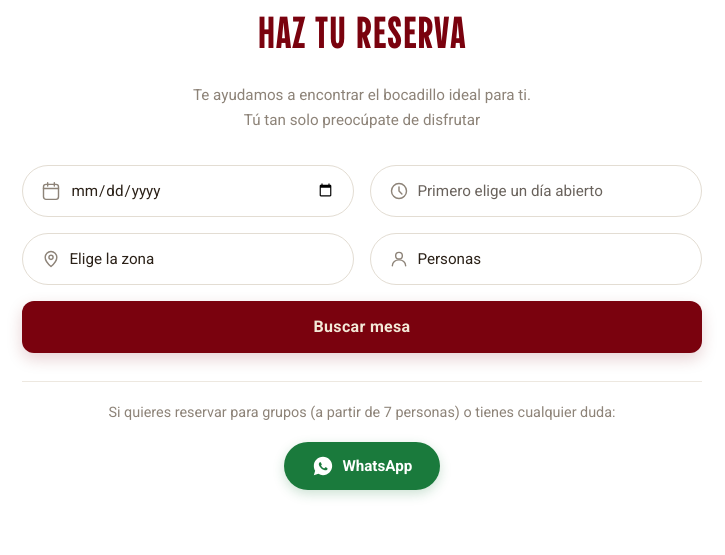
Scenario: Reservas page › changing a field after submit resets searching state
Step 1. Type "2030-06-05" into the date field with id "res-date" → (202, 191), box [69,181,335,201]
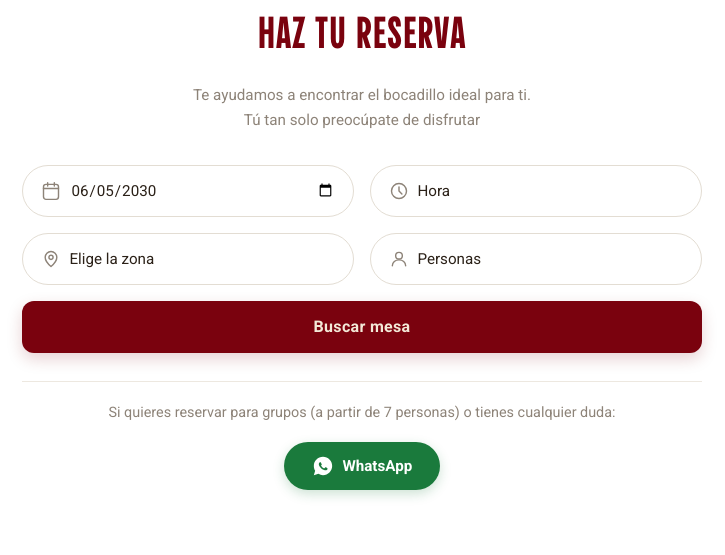
Check: the dropdown with id "res-time" is enabled
Step 2. Select "18:00" in the dropdown with id "res-time" → (550, 191), box [417,182,683,200]
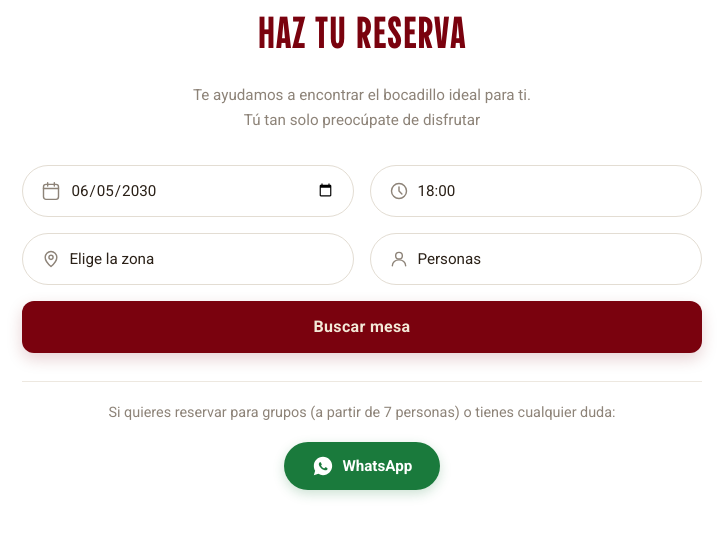
Step 3. Select "Terraza" in the dropdown with id "res-zone" → (202, 259), box [69,250,335,268]
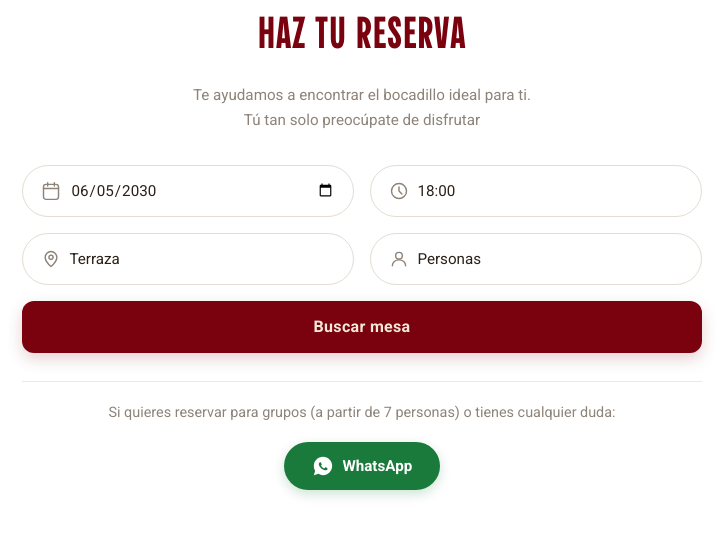
Step 4. Select "3 personas" in the dropdown with id "res-guests" → (550, 259), box [417,250,683,268]
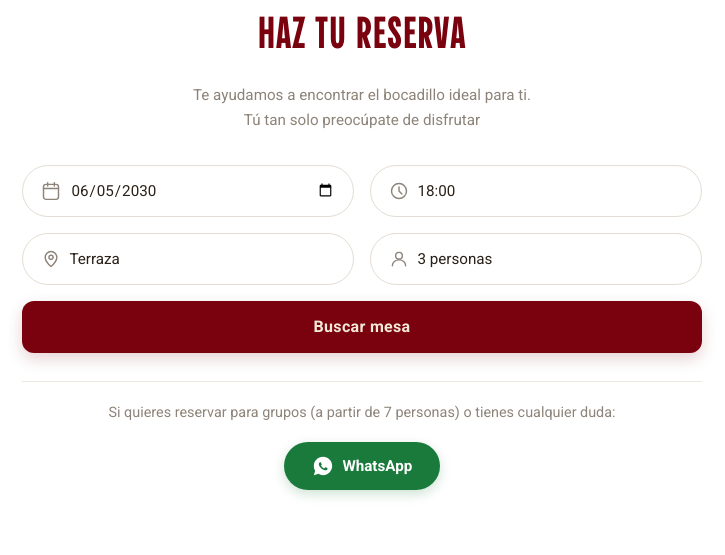
Step 5. Submit the form named "Formulario de reserva", box [22,165,702,353]
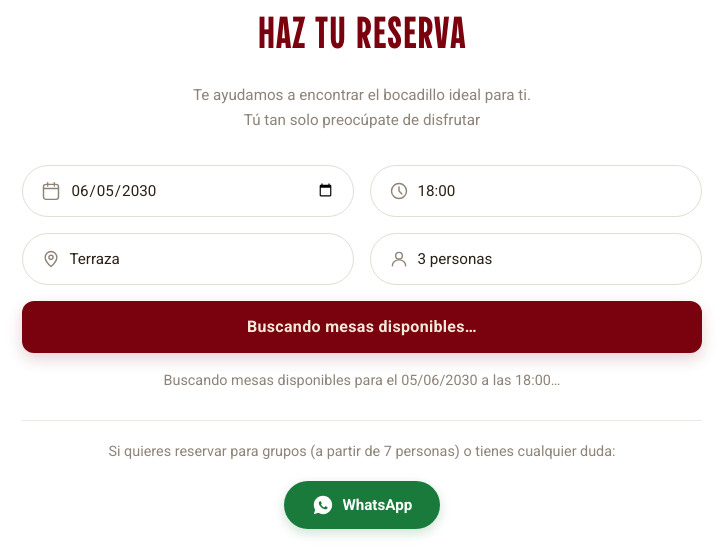
Check: the button "Buscando mesas disponibles…" is shown, box [22,301,702,353]
// Change guests — should reset searching state
Step 6. Select "4 personas" in the dropdown with id "res-guests" → (550, 259), box [417,250,683,268]
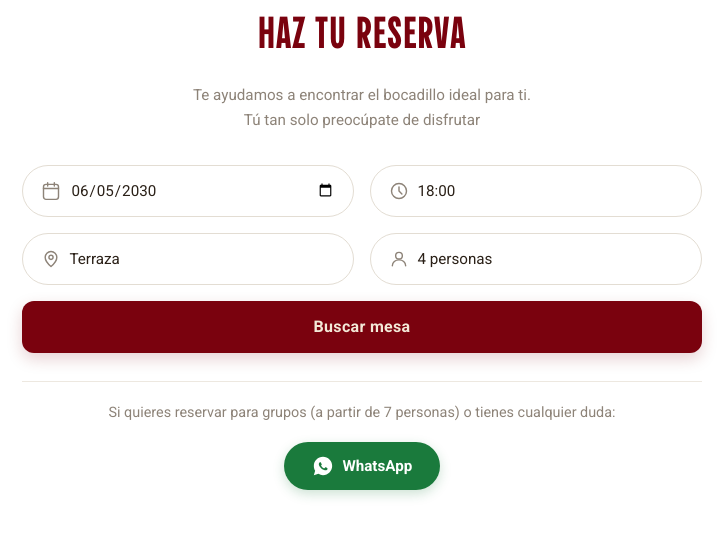
Check: the button "Buscar mesa" is shown, box [22,301,702,353]
